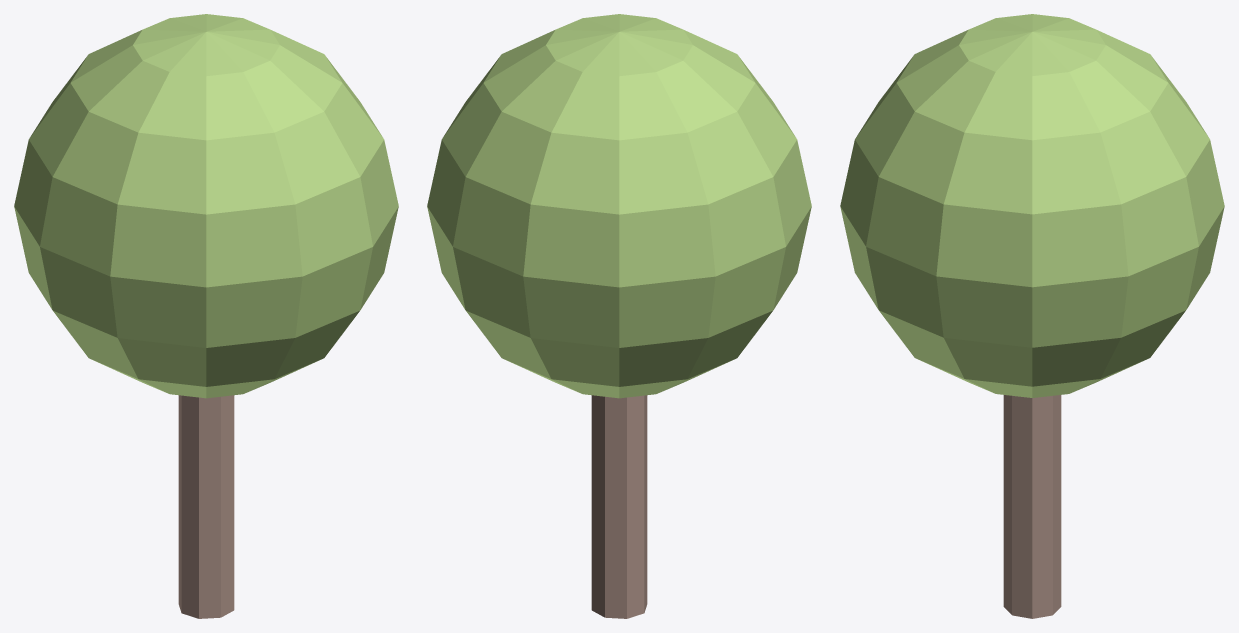
File: tree_round.glb
3 renders of one model, left to right at view 1: azimuth 30°, elevation 25°; view 2: azimuth 150°, elevation 25°; view 3: azimuth 270°, elevation 25°, orthographic.
Parts seen in each view (by area): view 1: tree_round; view 2: tree_round; view 3: tree_round.
Part boxes in pixels (left/top/right/bottom): tree_round: left=14, top=14, right=398, bottom=618; tree_round: left=427, top=14, right=811, bottom=618; tree_round: left=840, top=14, right=1224, bottom=618.
Bounding box in the file's own units: 2 × 3.3 × 2.
